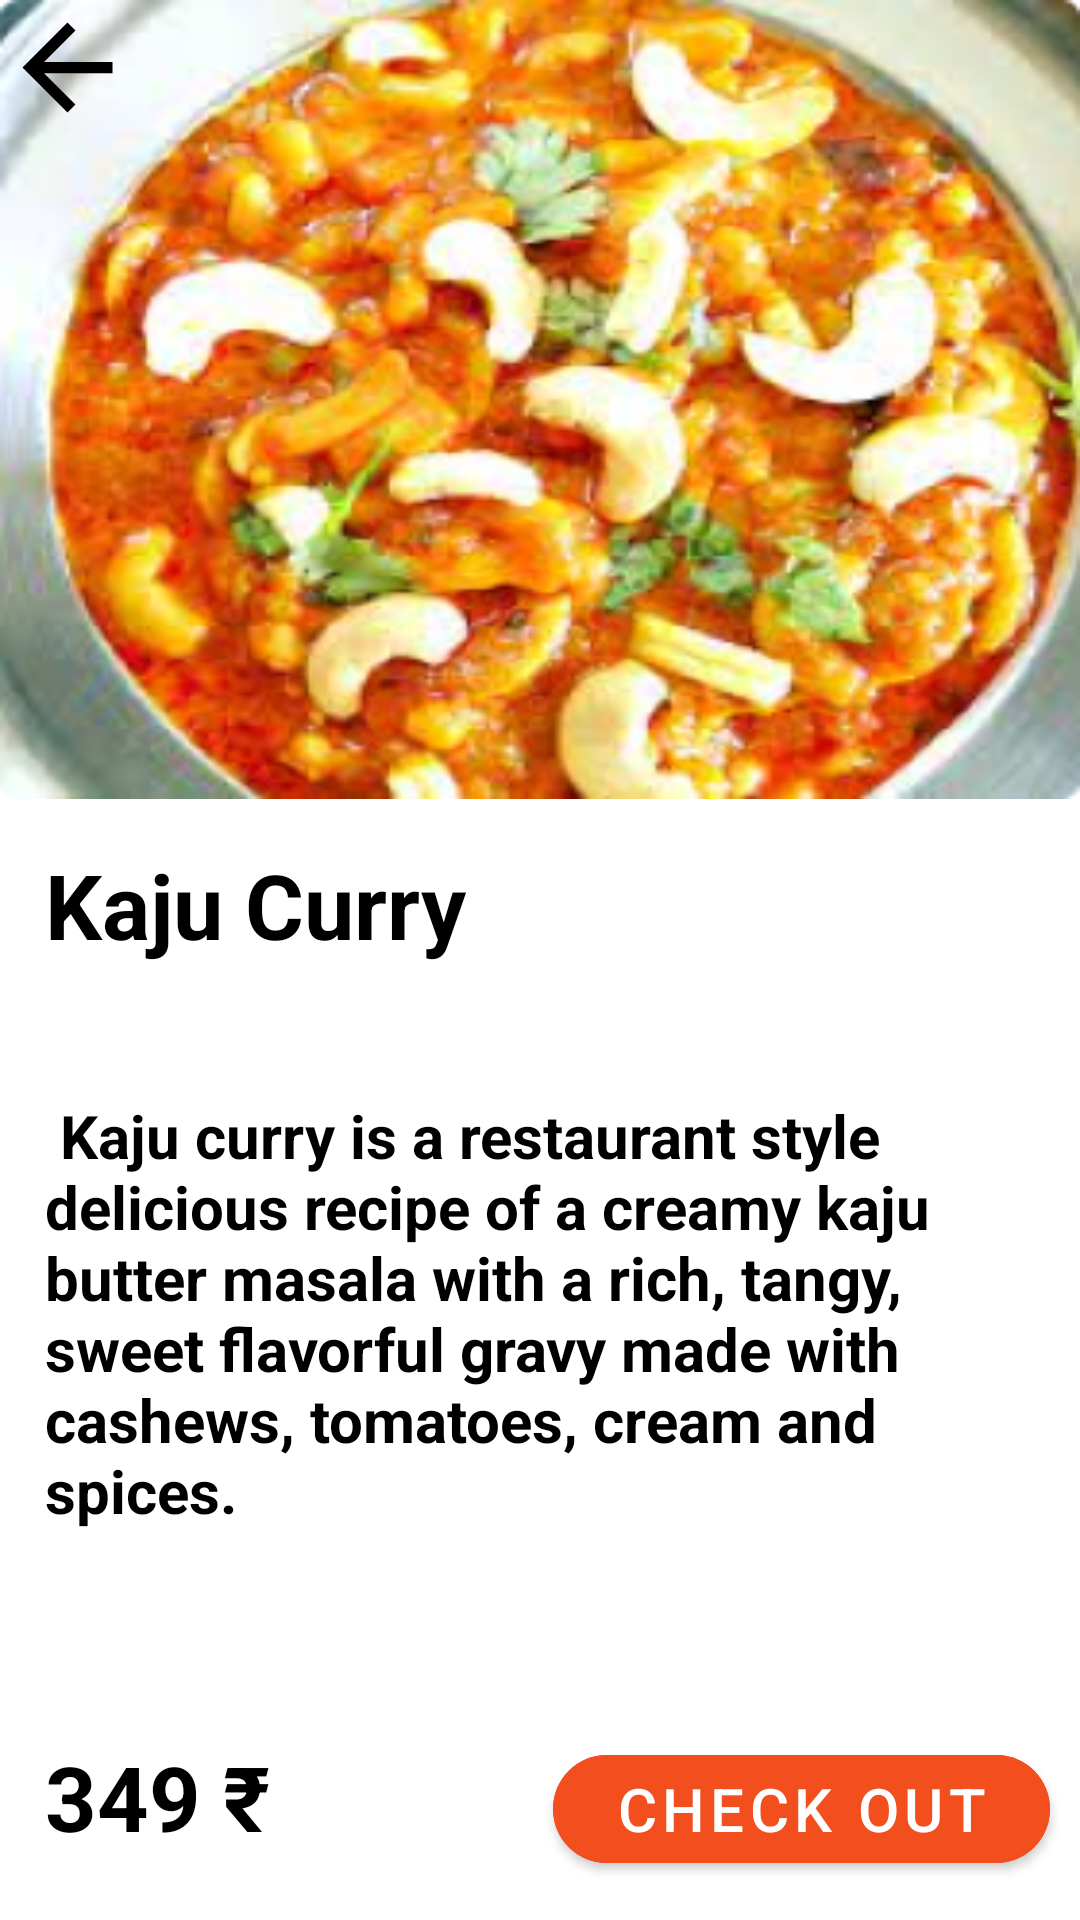

Icons on this 1080x1920 Android screen, each with its box as (x1, y1, x2, y2):
back: (0, 0, 135, 135)
